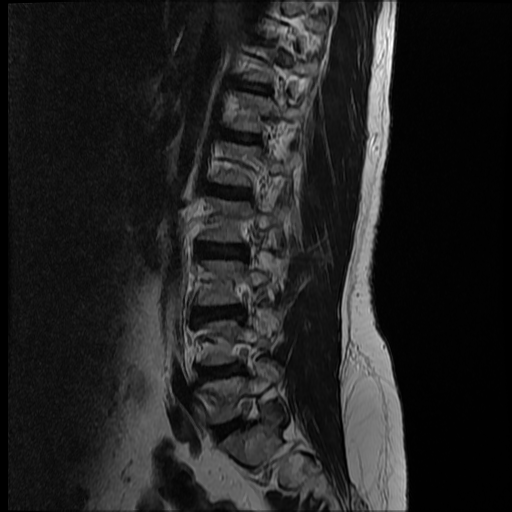RFS0: (229, 389, 268, 436)
